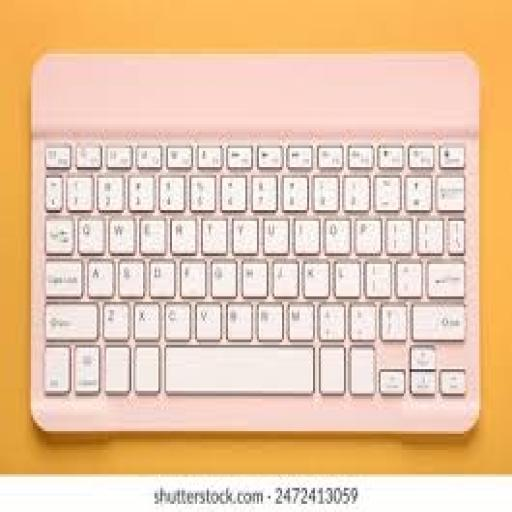keyboard: (29, 54, 477, 431)
